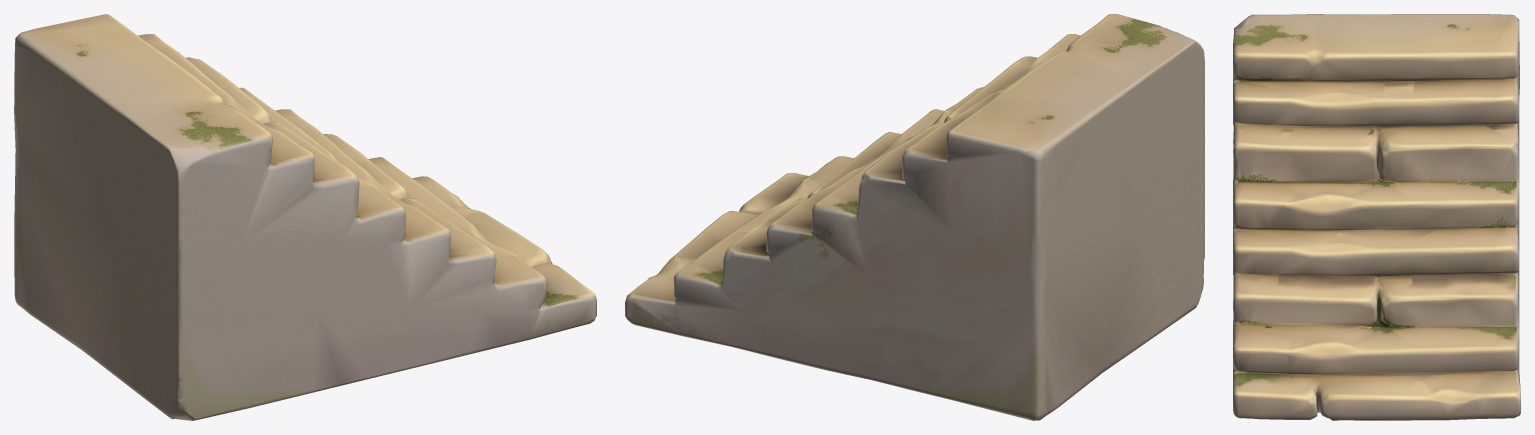
File: tripo_convert_9386420b-3143-4f2a-b84f-24aaa5ad8b3e.fbx
3 renders of one model, left to right at view 1: azimuth 30°, elevation 25°; view 2: azimuth 150°, elevation 25°; view 3: azimuth 270°, elevation 25°, orthographic. The views are drawn at different scales.
Visible parts, largest first — view 1: tripo_node_9386420b; view 2: tripo_node_9386420b; view 3: tripo_node_9386420b.
Part boxes in pixels (x1,y1,x2,y2): tripo_node_9386420b: (14,14,596,420); tripo_node_9386420b: (625,14,1204,420); tripo_node_9386420b: (1233,14,1520,420).
Bounding box in the file's own units: 0.998 × 0.6074 × 0.6816.
Materials: 1 (1 with a texture image).
